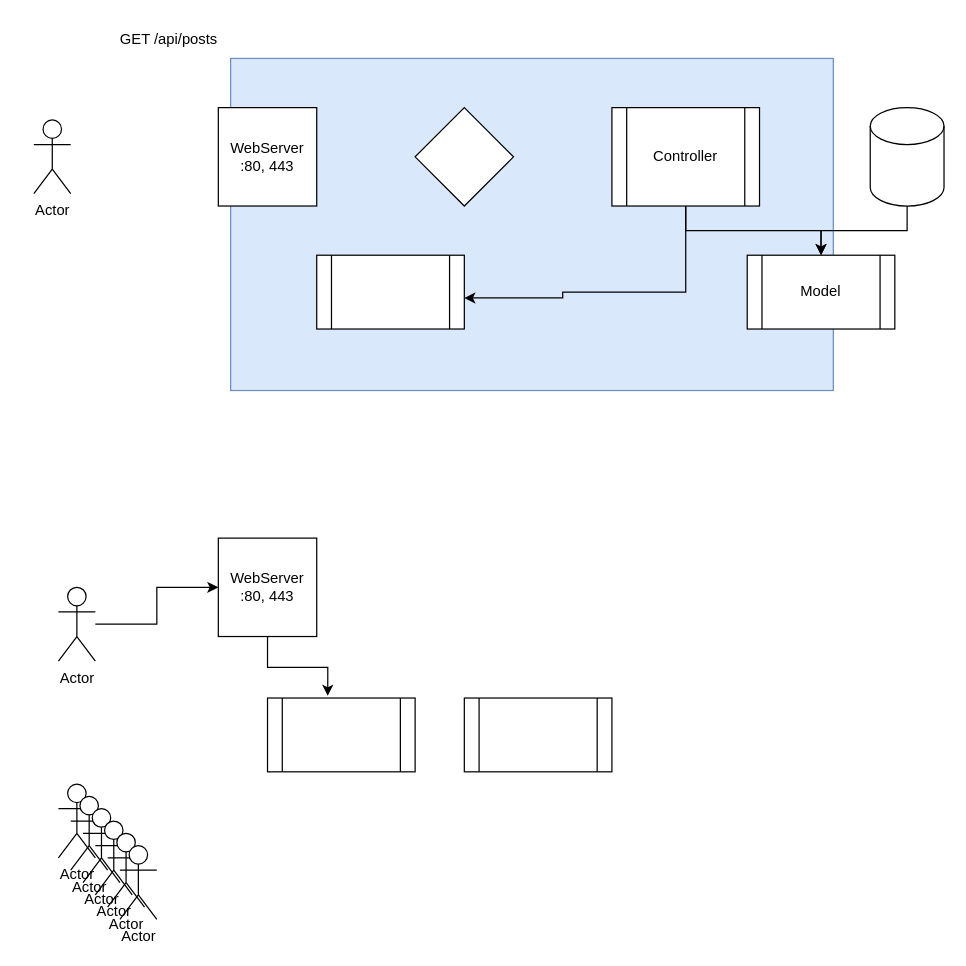
The diagram is 966 pixels wide and 966 high, and some of its shapes have lost their labels. The box of each missing label's shape, as (x1, y1, x2, y2) in pixels:
DB: (869, 106, 944, 206)
Router: (414, 106, 514, 206)
View: (315, 254, 464, 329)
Пассивный сокет: (266, 697, 415, 772)
Создаеться новый поток на клиента: (463, 697, 612, 772)
